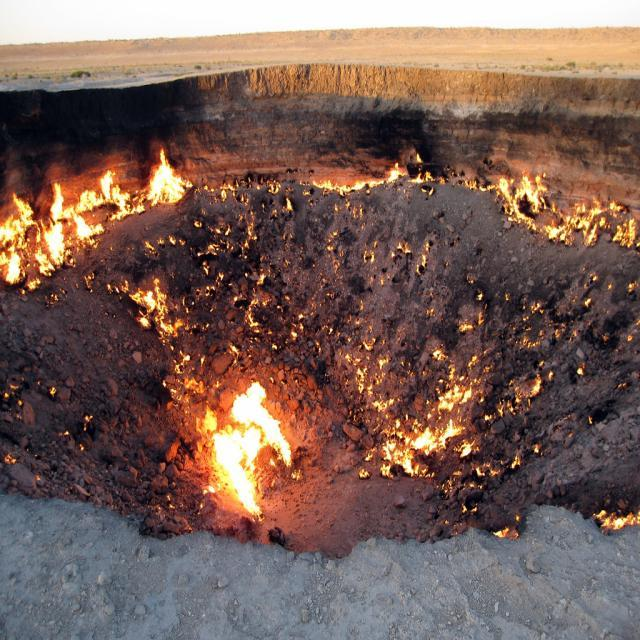Fire: (222, 382, 272, 500), (96, 158, 180, 214), (6, 194, 66, 268)
